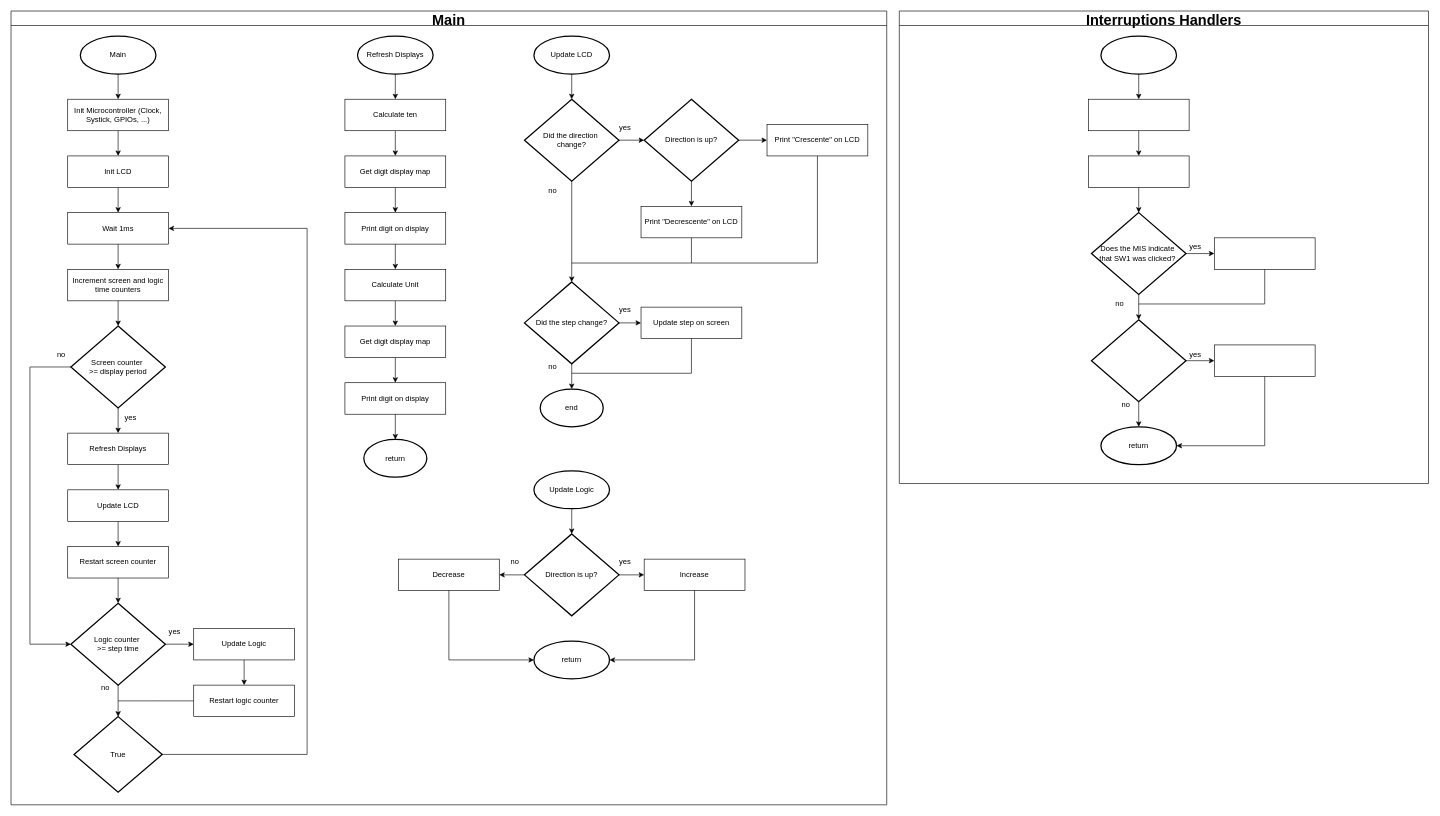
This 1440x816 diagram has some shape labels left out. The centre of each missing label's shape, as x and y in pixels:
"Does the MIS indicate that SW2 was clicked?" goes at pixel 1138 360.
"Increase the step" goes at pixel 1264 253.
"Invert direction" goes at pixel 1264 360.
"Read MIS register" goes at pixel 1138 115.
"Realize ACK" goes at pixel 1138 171.
"SW1/SW2 interruption Handler" goes at pixel 1138 54.
